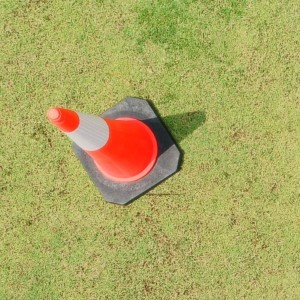traffic cone: (47, 96, 180, 204)
